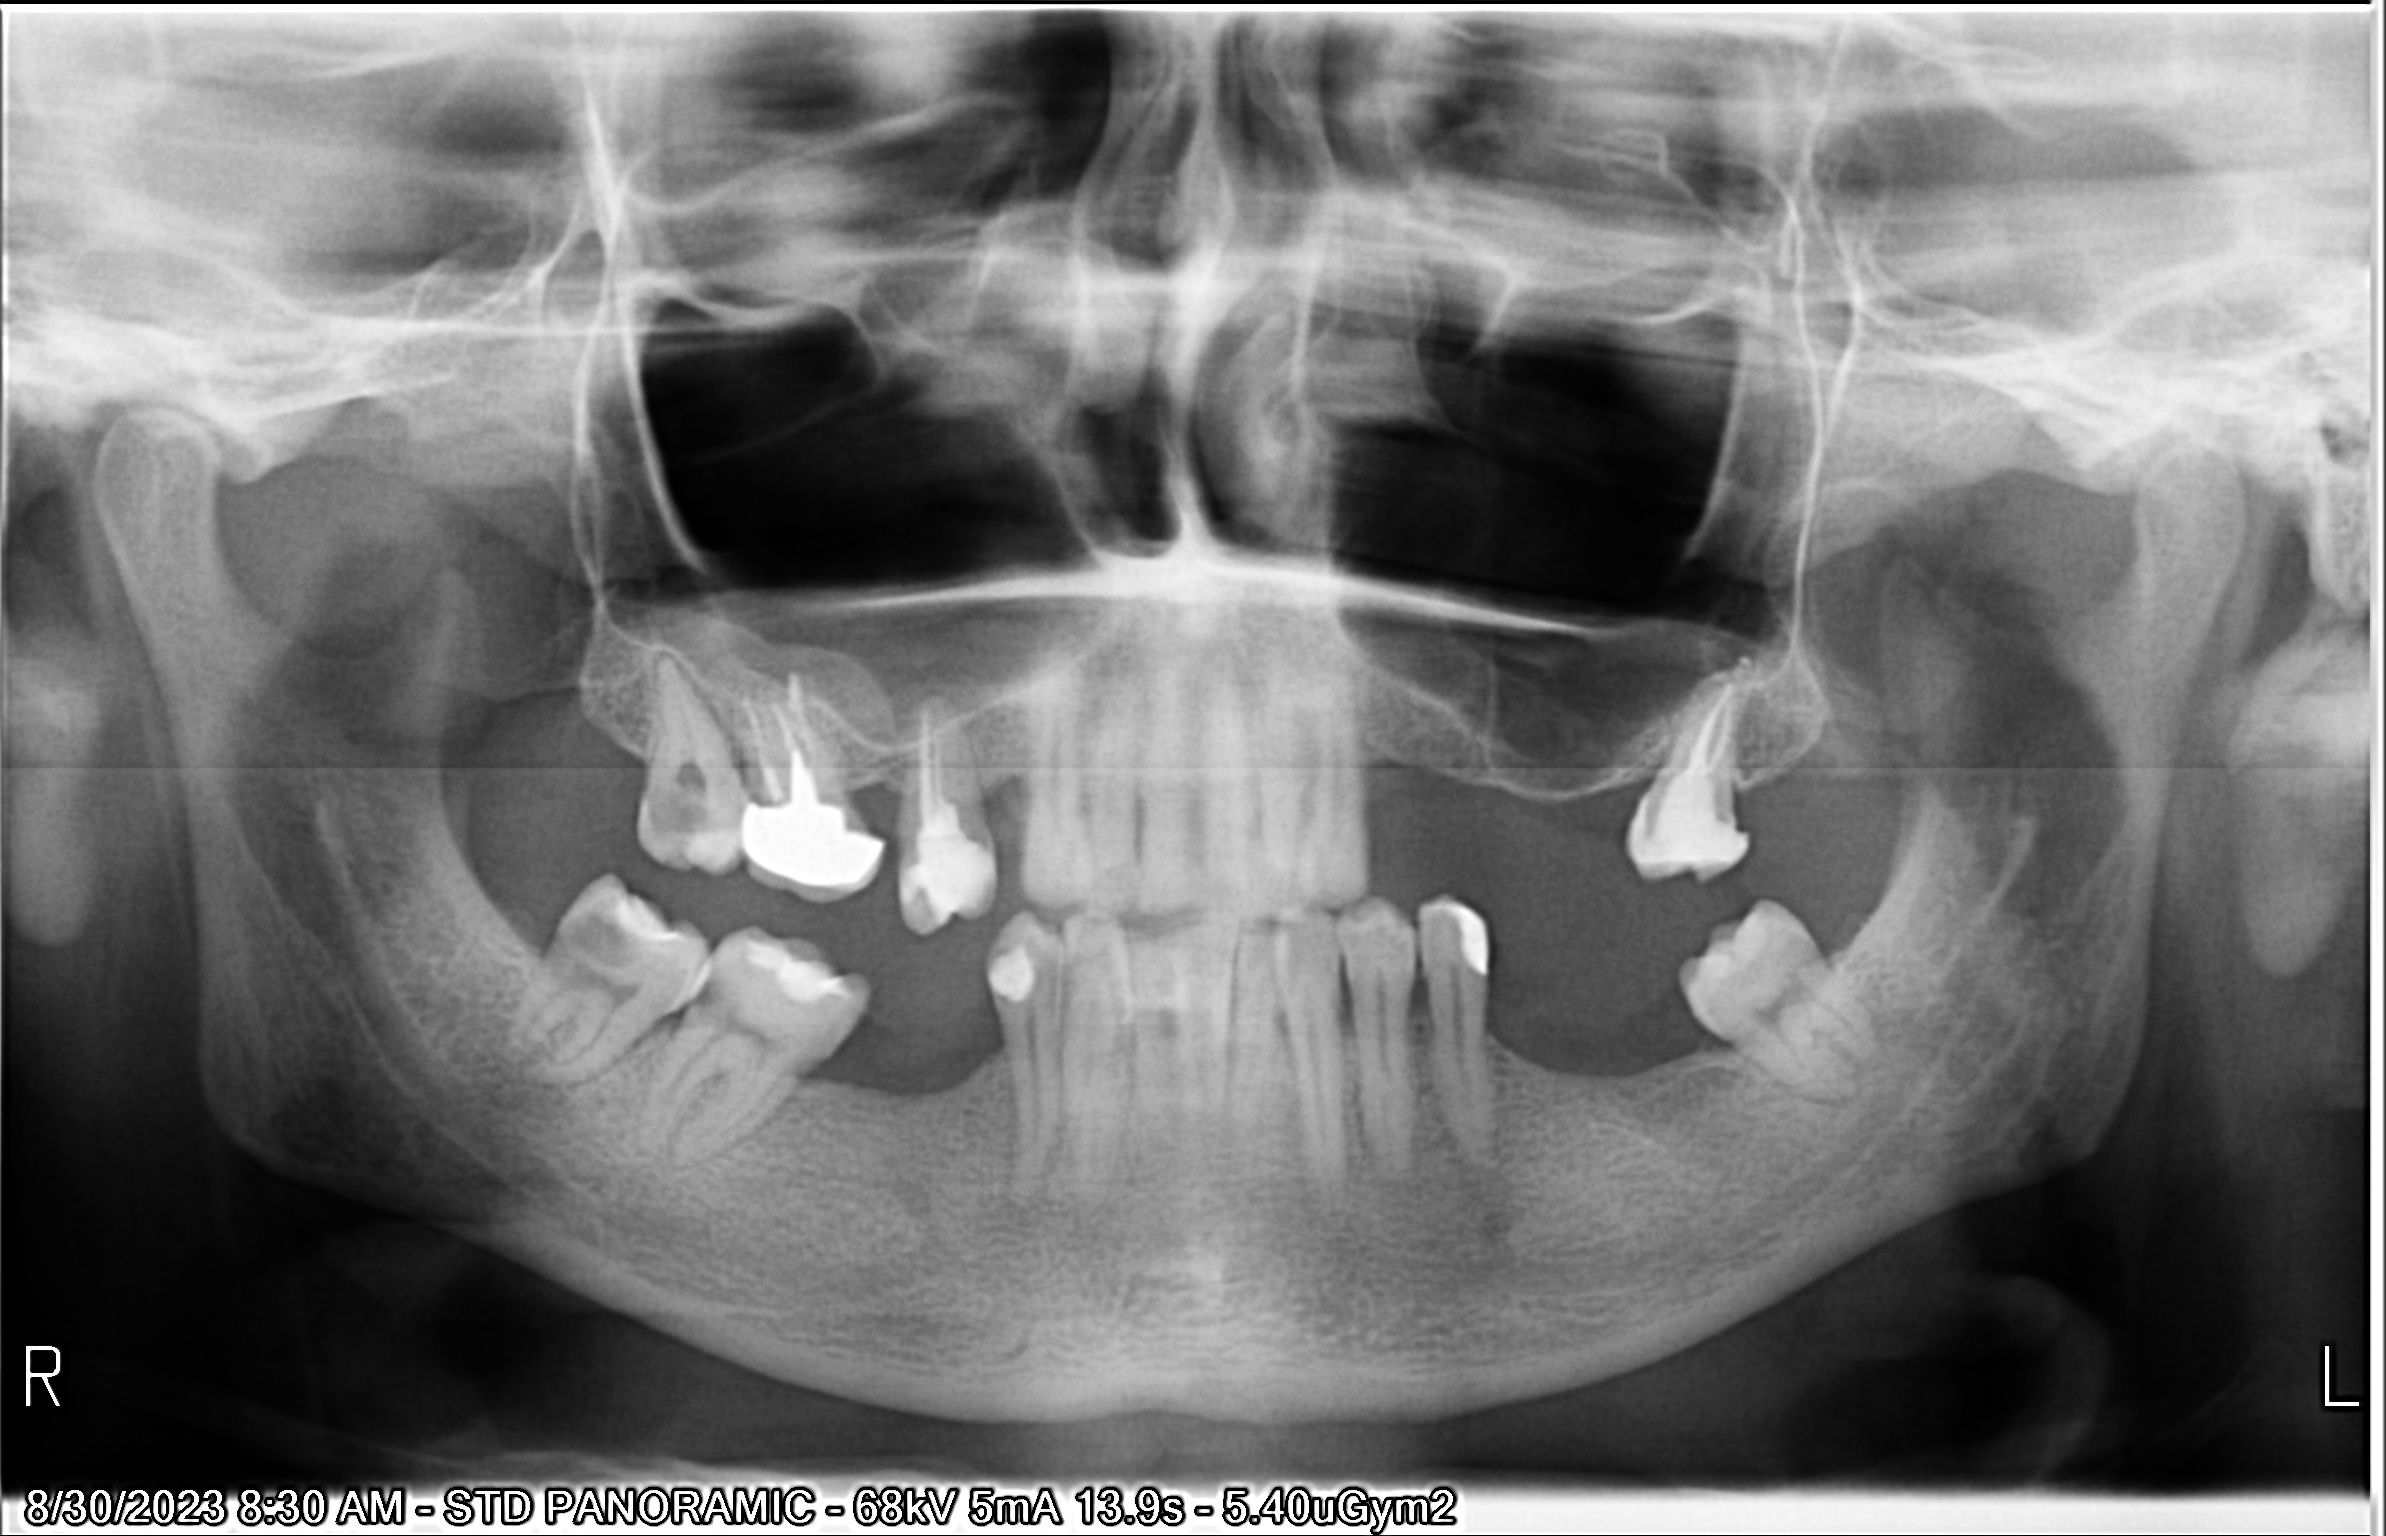CAR: (287, 451, 1045, 1475), (202, 405, 883, 1388), (257, 336, 991, 1185)
END: (756, 268, 2386, 1052), (424, 280, 1374, 1099), (313, 270, 1148, 1063)
OBT: (663, 391, 2172, 1378), (762, 332, 2386, 1212), (450, 428, 1504, 1447), (397, 346, 1402, 1287), (306, 404, 1172, 1426), (242, 411, 951, 1362)
PRR: (292, 332, 1172, 1242)
